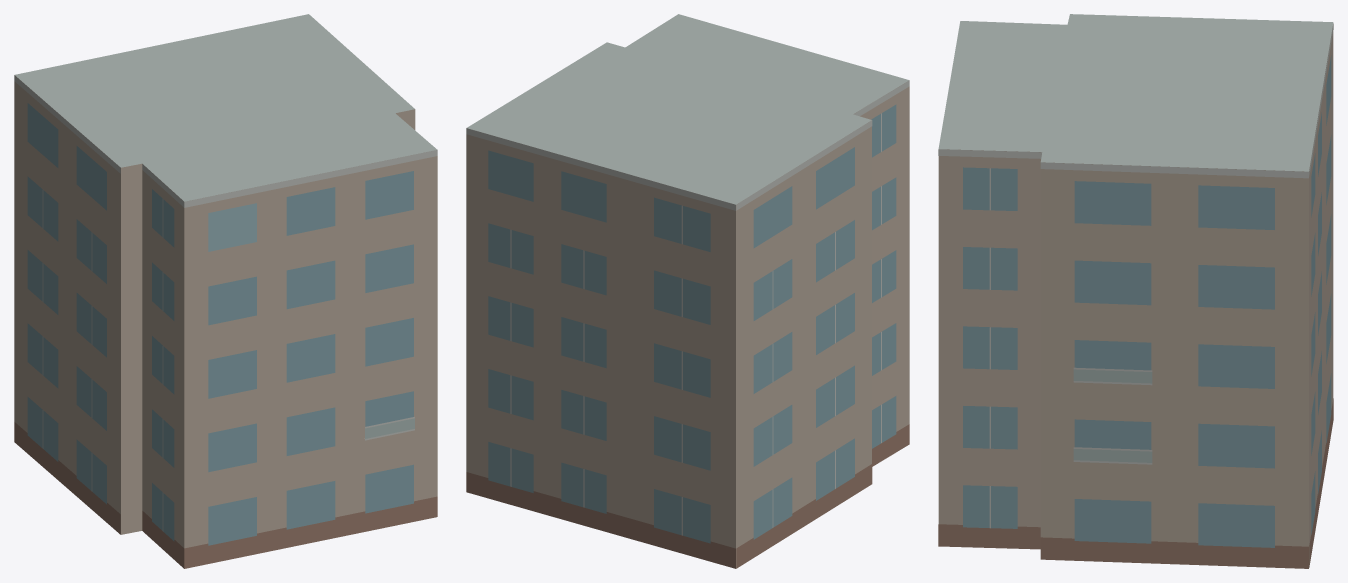
File: survey-upis-32616696.glb
The picture shows the model from 3 angles, left to right: view 1: azimuth 30°, elevation 25°; view 2: azimuth 150°, elevation 25°; view 3: azimuth 270°, elevation 25°; orthographic projection. The views are drawn at different scales.
Parts seen in each view (by area): view 1: survey-upis-32616696.tmp; view 2: survey-upis-32616696.tmp; view 3: survey-upis-32616696.tmp.
Boxes of the visible parts, x1=… form: survey-upis-32616696.tmp: x1=14, y1=14, x2=437, y2=568; survey-upis-32616696.tmp: x1=466, y1=14, x2=909, y2=568; survey-upis-32616696.tmp: x1=938, y1=14, x2=1333, y2=568.
Size of the model in its own units: 12.26 by 14.4 by 12.99.
